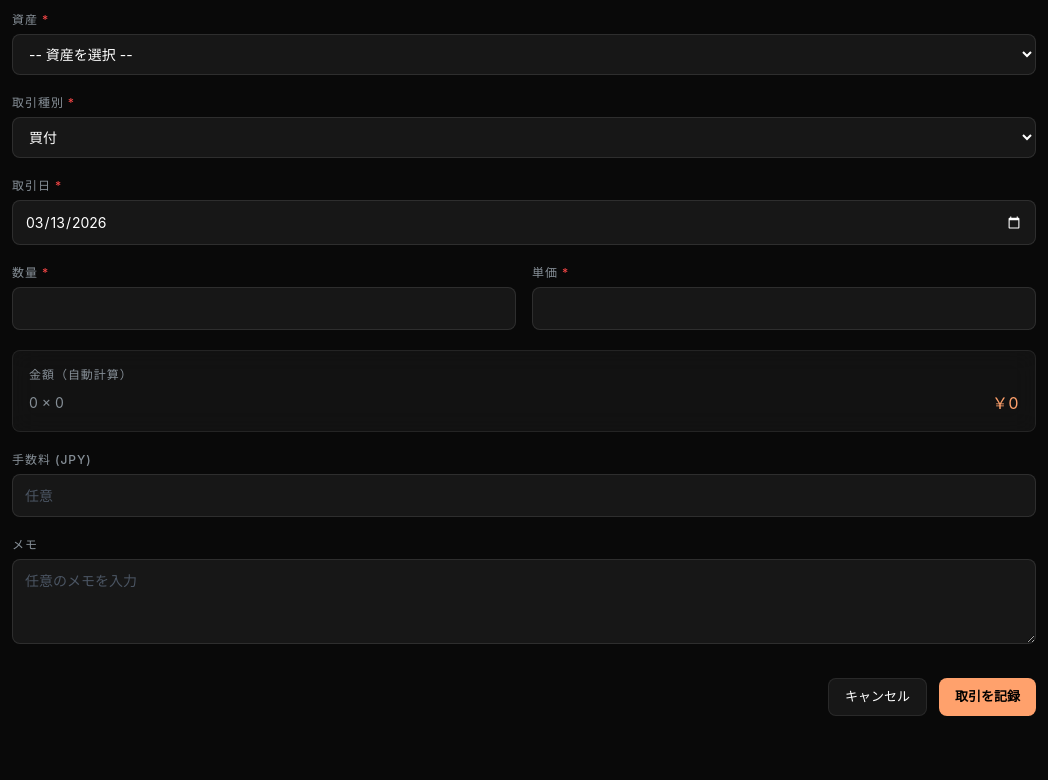
Test: TransactionForm type-dependent fields › hides quantity and price fields for dividend type
Select "配当・分配金" in the dropdown labelled "取引種別*". click: (524, 138)
box: [12,117,1036,158]
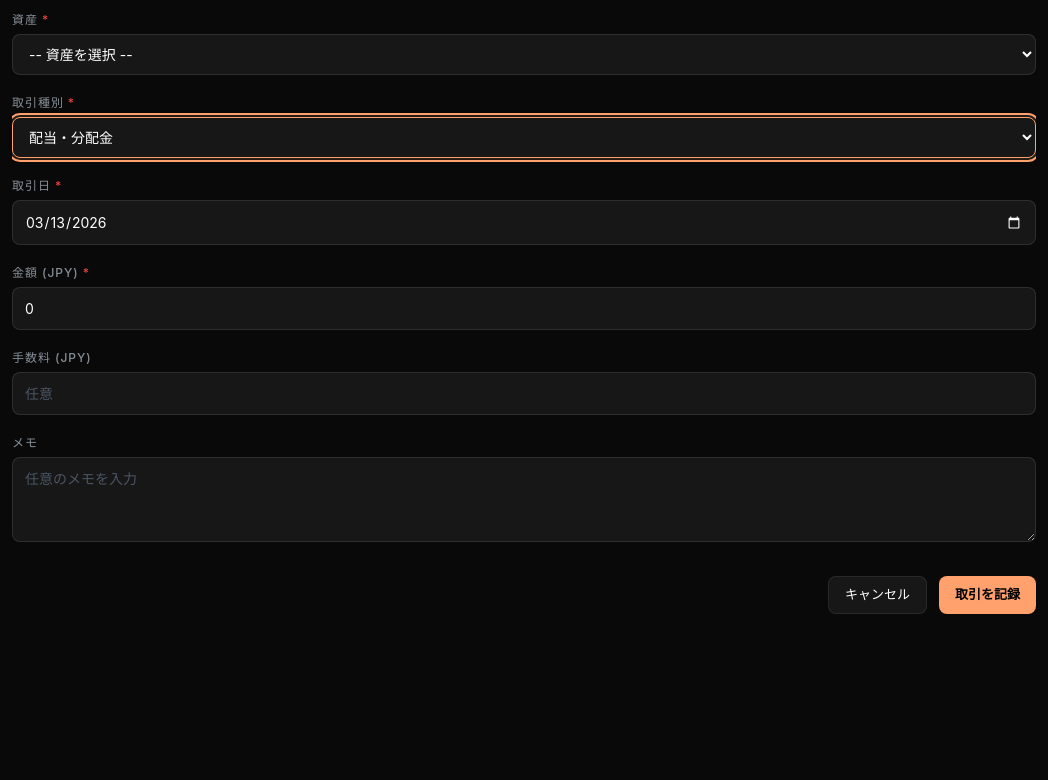
Check: the label labelled "数量" is gone
Check: the label labelled "単価" is gone
